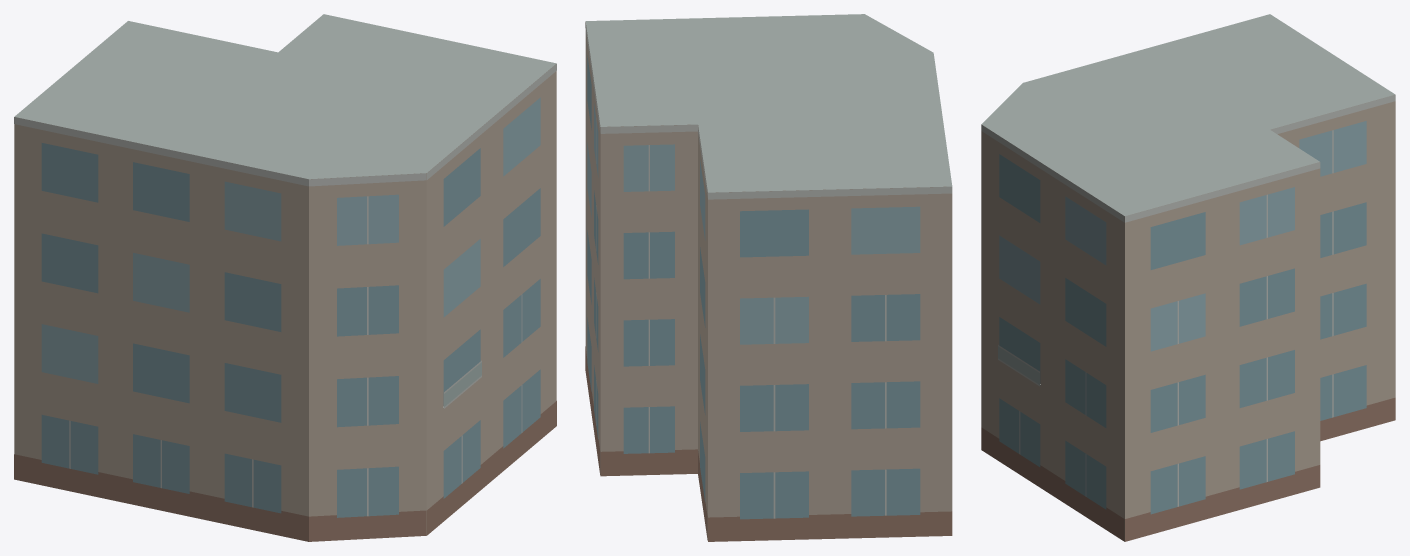
Rendered from residential-9f058962-937b-464d-a01a-4b4478ecb8bd.glb.
The picture shows the model from 3 angles, left to right: view 1: azimuth 30°, elevation 25°; view 2: azimuth 150°, elevation 25°; view 3: azimuth 270°, elevation 25°; orthographic projection. The views are drawn at different scales.
Visible parts, largest first — view 1: residential-9f058962-937b-464d-a01a-4b4478ecb8bd.tmp; view 2: residential-9f058962-937b-464d-a01a-4b4478ecb8bd.tmp; view 3: residential-9f058962-937b-464d-a01a-4b4478ecb8bd.tmp.
Boxes of the visible parts, left/top/right/bottom form: residential-9f058962-937b-464d-a01a-4b4478ecb8bd.tmp: left=14, top=14, right=556, bottom=541; residential-9f058962-937b-464d-a01a-4b4478ecb8bd.tmp: left=585, top=14, right=952, bottom=541; residential-9f058962-937b-464d-a01a-4b4478ecb8bd.tmp: left=981, top=14, right=1395, bottom=541.
Size of the model in its own units: 16.27 by 12.2 by 14.08.
